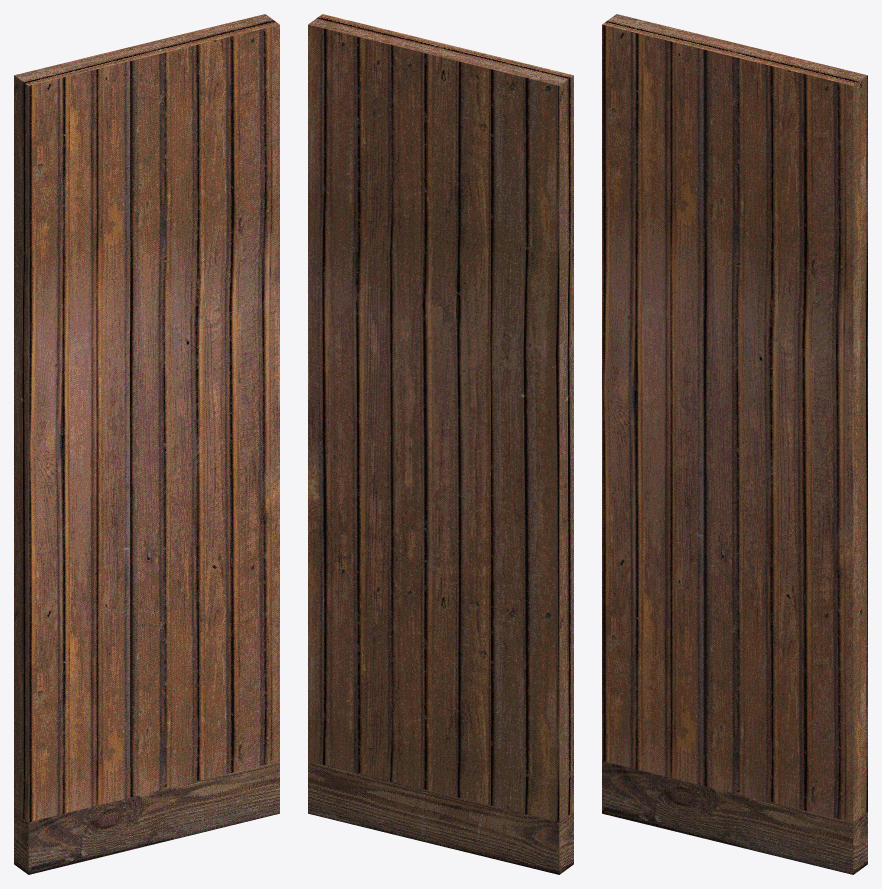
Rendered from wall-int-filler-3.glb.
The picture shows the model from 3 angles, left to right: view 1: azimuth 30°, elevation 25°; view 2: azimuth 150°, elevation 25°; view 3: azimuth 330°, elevation 25°; orthographic projection.
Visible parts, largest first — view 1: wall-int-filler-3.001; view 2: wall-int-filler-3.001; view 3: wall-int-filler-3.001.
Part boxes in pixels (box(x1,y1,x2,y2)): wall-int-filler-3.001: box(14, 14, 279, 874); wall-int-filler-3.001: box(308, 14, 573, 874); wall-int-filler-3.001: box(602, 14, 867, 874).
Size of the model in its own units: 1 by 3 by 0.1.
Materials: 2 (2 with a texture image).
